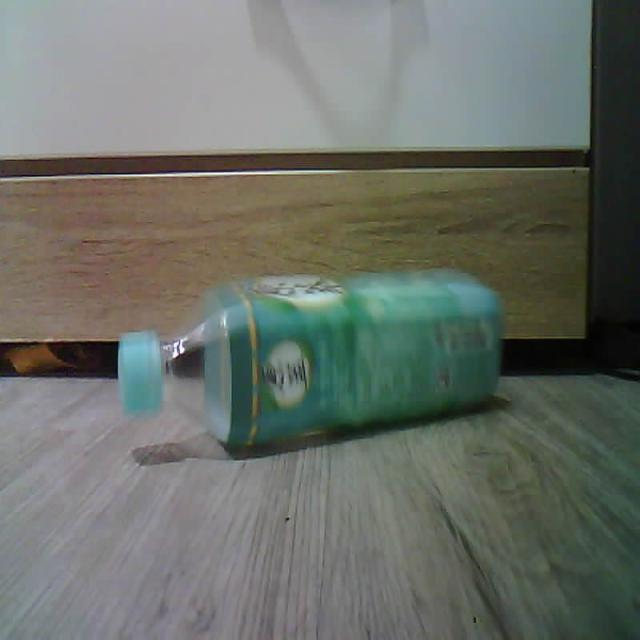bottle: (118, 269, 502, 447)
